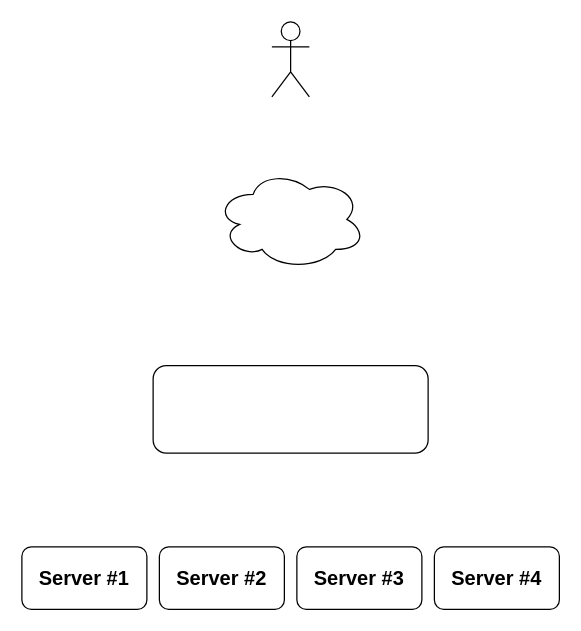
Image size: 581x631. Some labels were removed from this diagram. Here are the shapes that lost their labels. From the top down, the centre of each, then its label:
the point at 290,59: Client IP
the point at 290,408: LoadBalancer(L4/L7)
